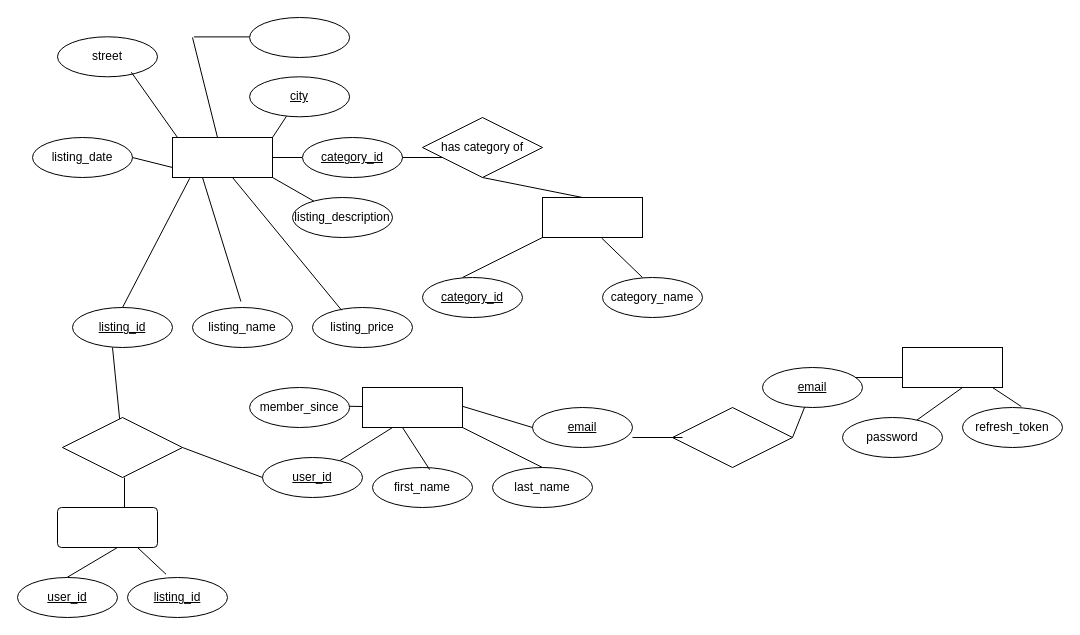
Some shapes in this 1080 by 635 pixel diagram are drawn without their labels. The centre of each missing label's shape, as x and y in pixels:
Auth: the point at 952,367
Categories: the point at 592,217
has auth info: the point at 732,437
Listing: the point at 222,157
look up: the point at 122,447
lookup_listings: the point at 107,527
province: the point at 299,37
User: the point at 412,407
